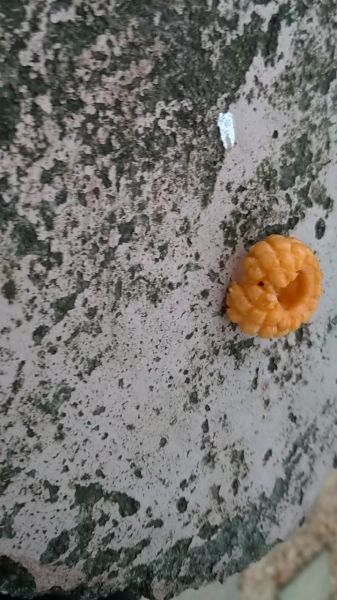eggs: (224, 226, 329, 348)
